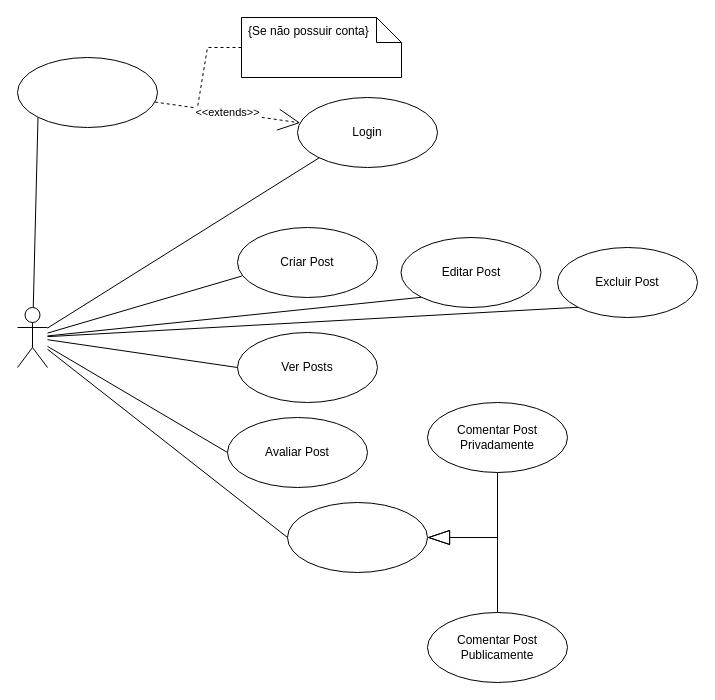
This 715x700 diagram has some shape labels left out. The shapes that lost their labels are listed below. From the top down, each one's centre as x and y in pixels, then its label:
(x=87, y=92): Sign In
(x=32, y=337): User
(x=357, y=537): Comentar Post
